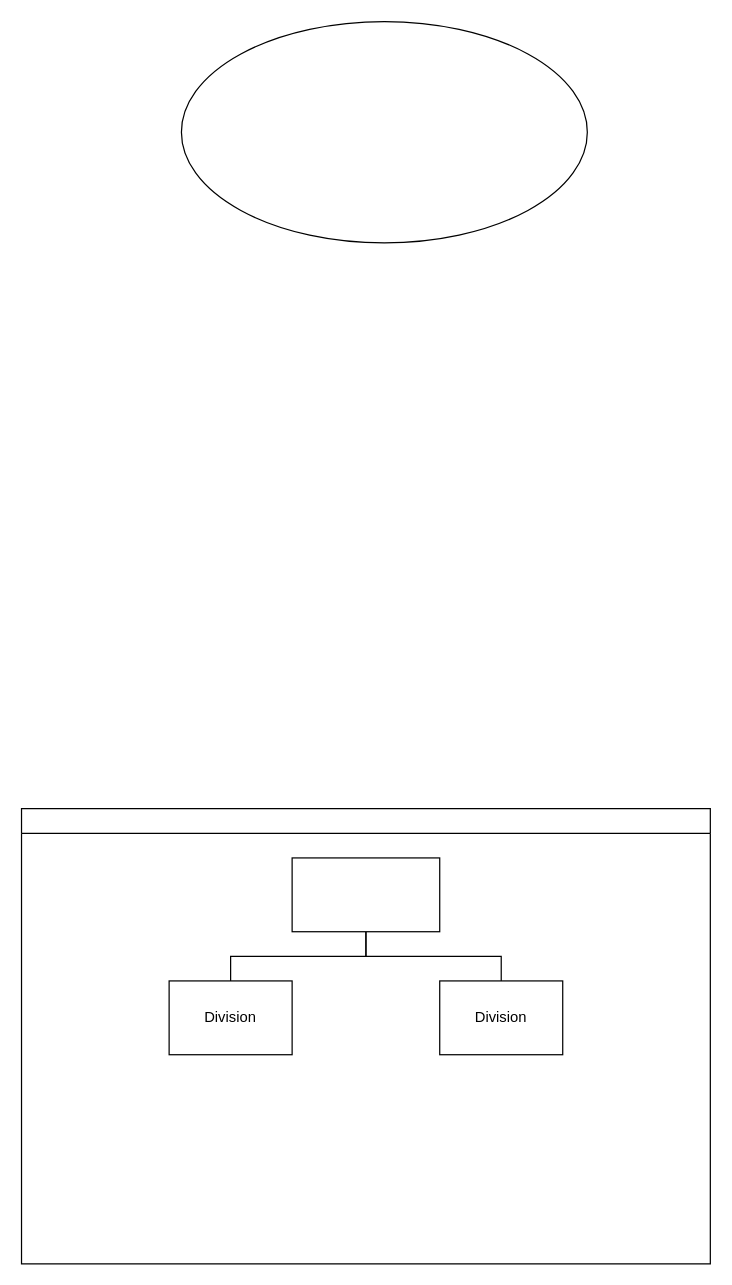
Image size: 732x1285. Some labels were removed from this diagram. The shapes that lost their labels are listed below. From the top down, each one's box as (x1, y1, x2, y2) in pixels, then its label:
(291, 857, 440, 932): Organization
(20, 807, 710, 1264): Orgchart
